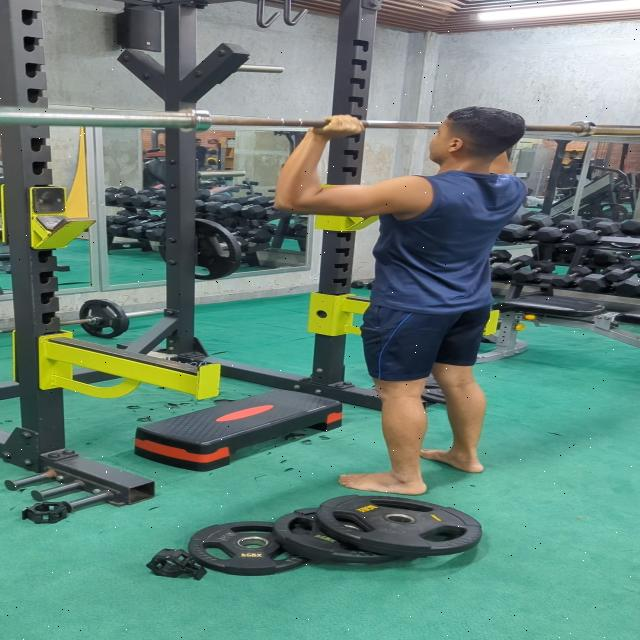Normal_OverheadPress: (285, 100, 554, 508)
